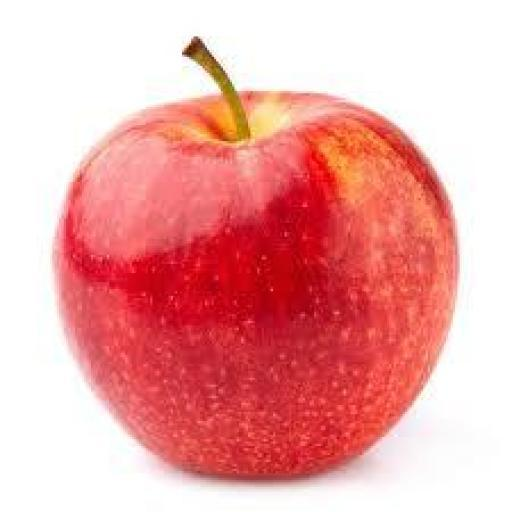apple: (55, 39, 457, 475)
